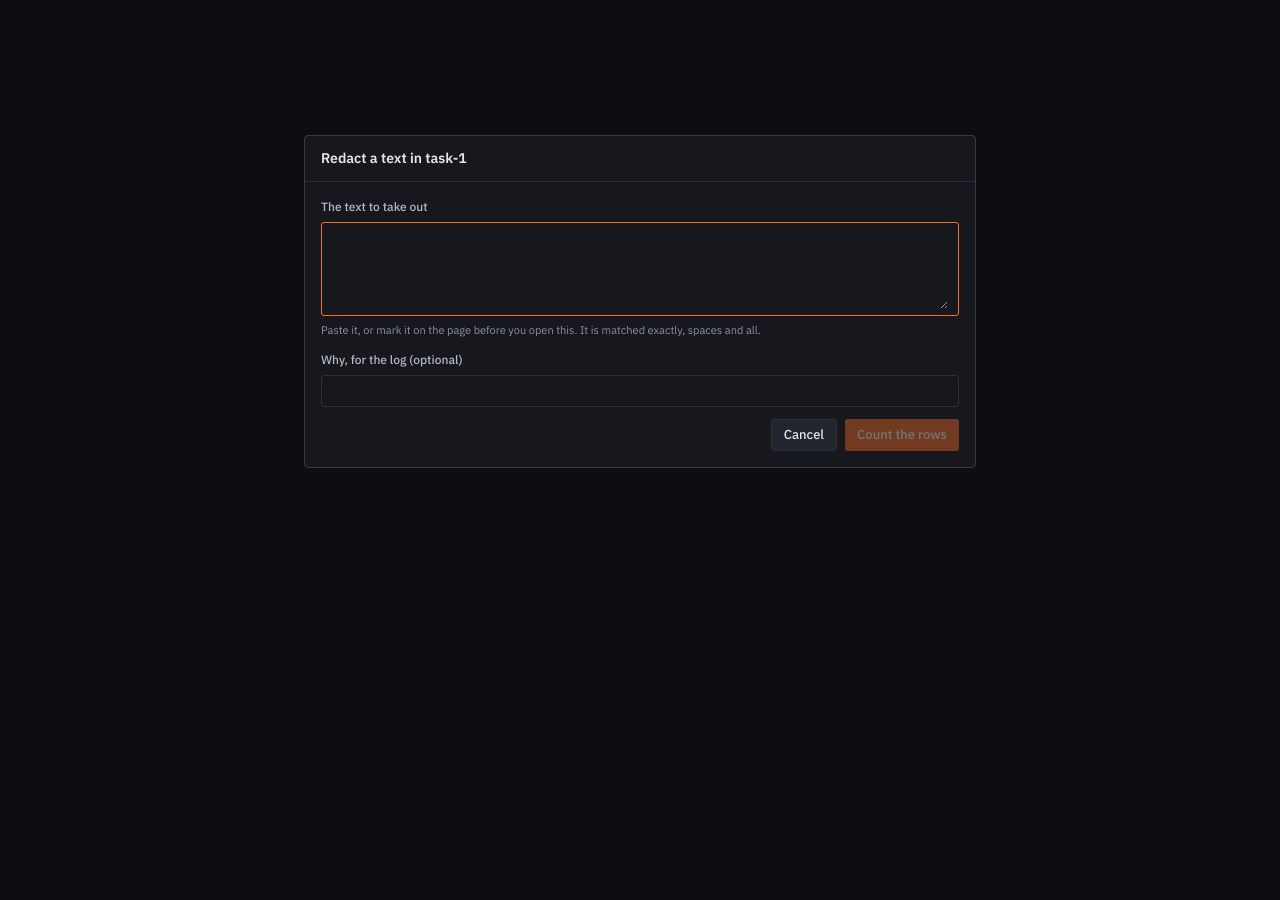
Test: RedactText › shows a refusal in the server's words, and redacts nothing
The width and height of the screenshot is (1280, 900).
Type "42" into the text box labelled "The text to take out" at (640, 269), box top-left (332, 229), bottom-right (948, 309)
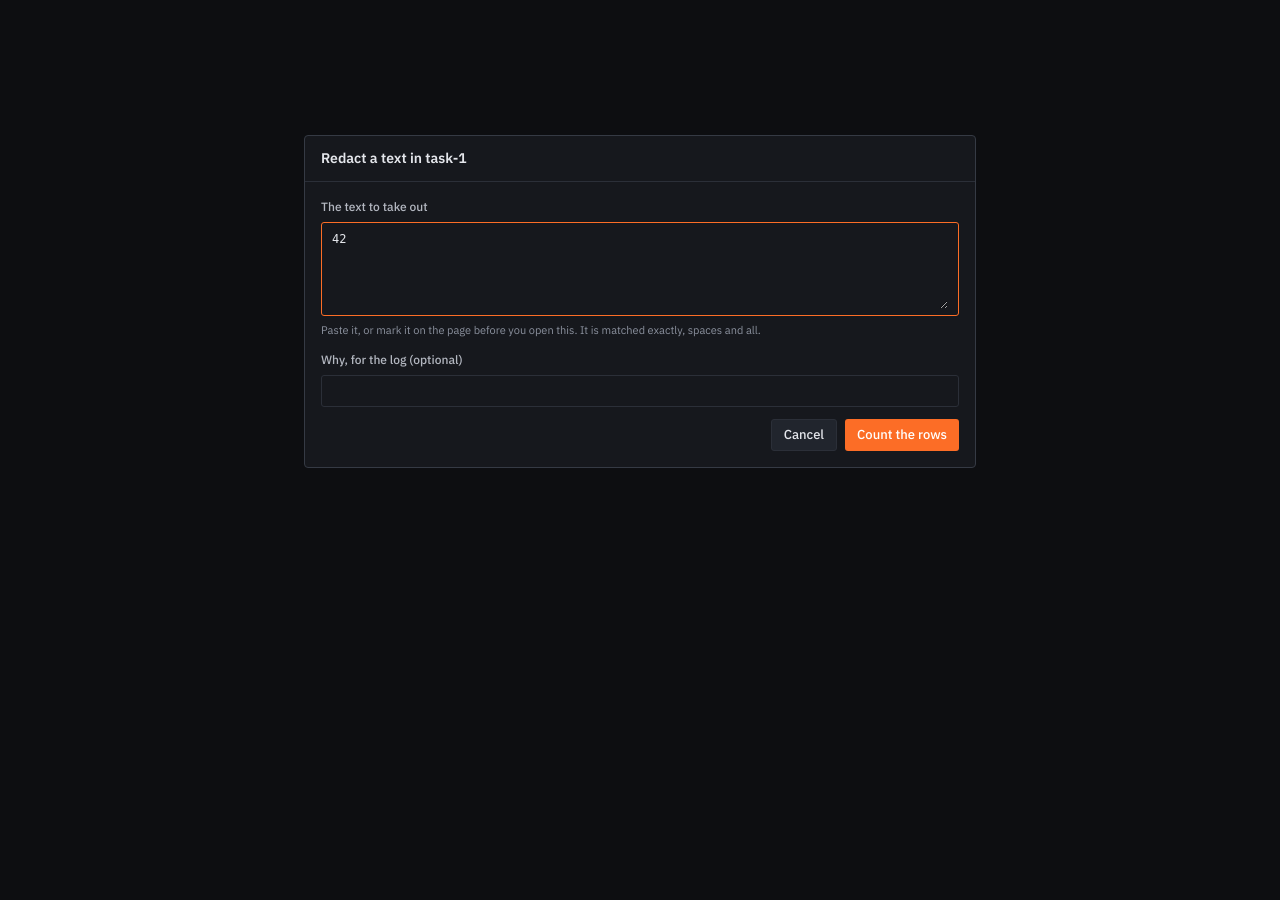
Click the button "Count the rows" at (902, 434), box top-left (845, 418), bottom-right (959, 450)
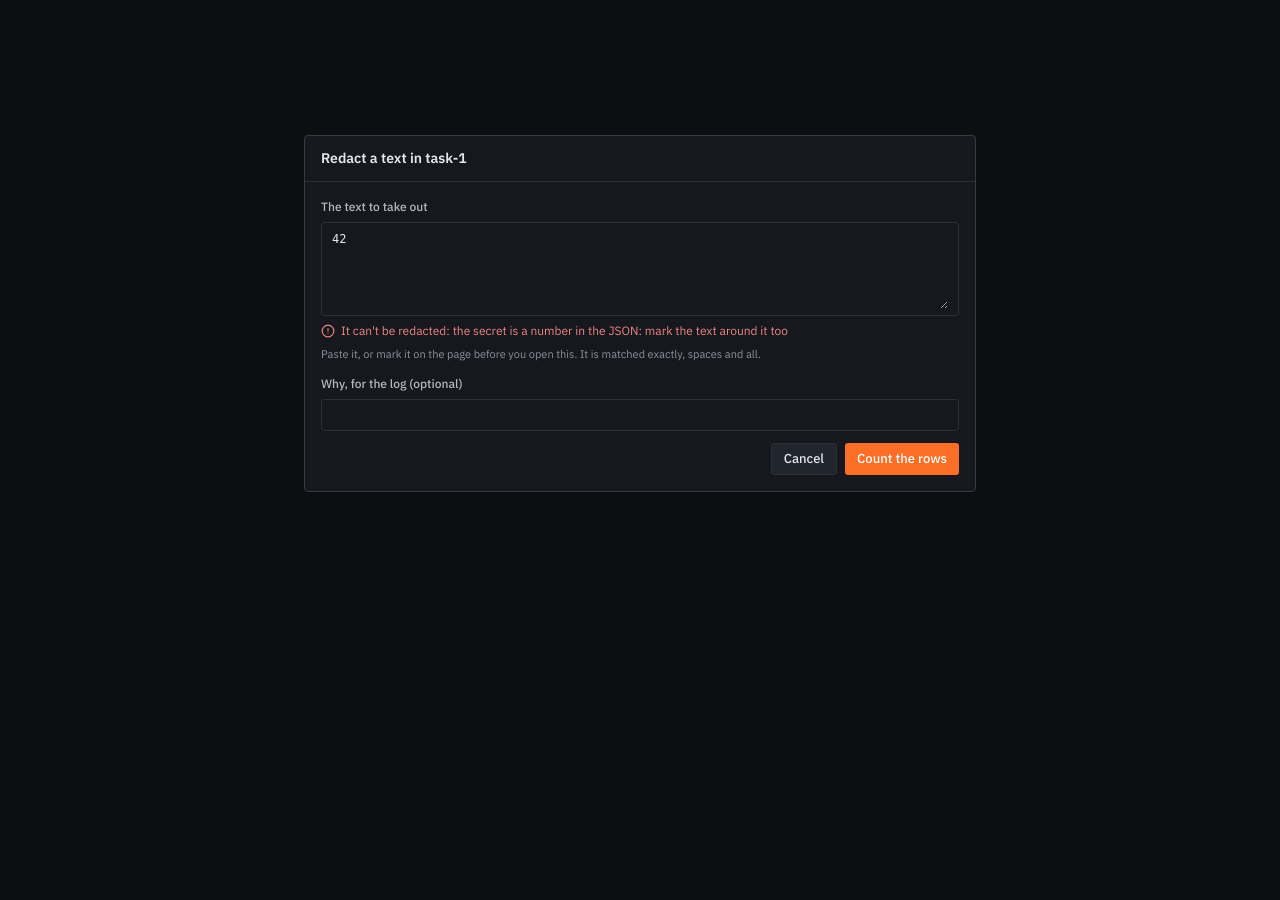
Expected: the text "It can't be redacted: the secret is a number in the JSON: mark the text around it too" is shown, top-left (341, 323), bottom-right (788, 338)
